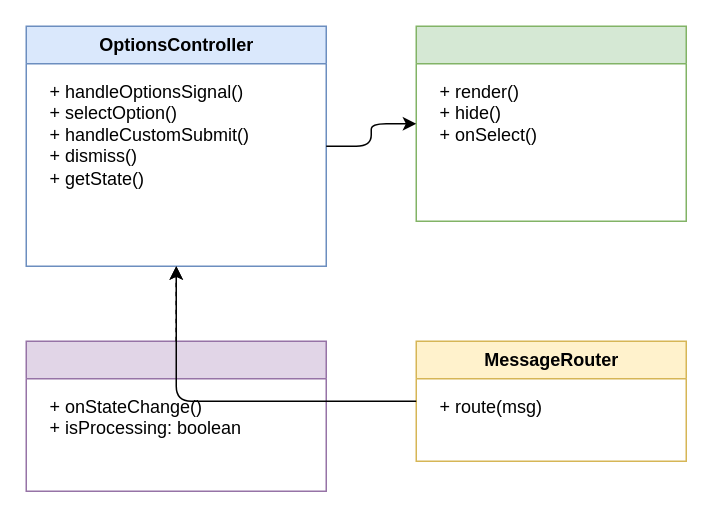
Image size: 713x518. Some labels were removed from this diagram. Each missing label, with the box of its shape:
OptionsView: (415, 25, 686, 221)
SpinnerController: (25, 340, 326, 491)
